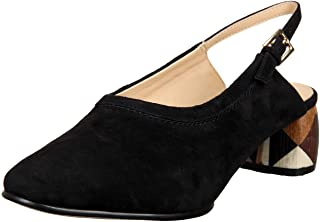shoes: (1, 1, 320, 222)
